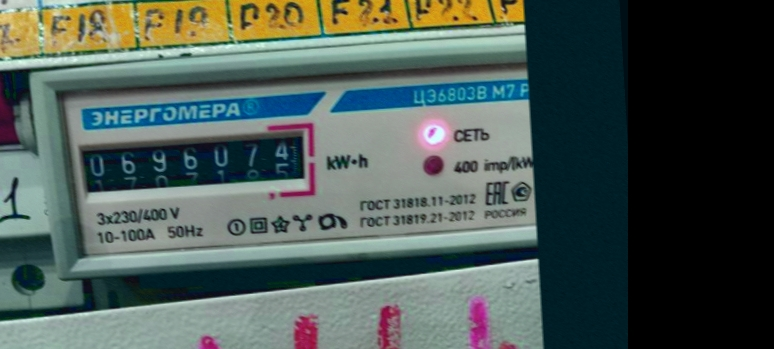0: (84, 150, 105, 176), (211, 140, 228, 166)
4: (272, 135, 289, 160)
5: (273, 159, 289, 178)
6: (117, 146, 138, 174), (179, 143, 198, 168)
7: (240, 139, 259, 166)
9: (147, 145, 168, 171)
screen: (65, 115, 321, 211)
